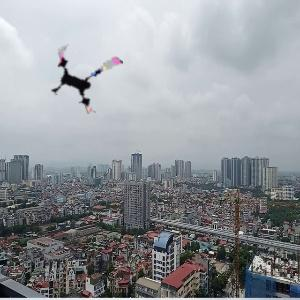drone: (45, 37, 127, 119)
